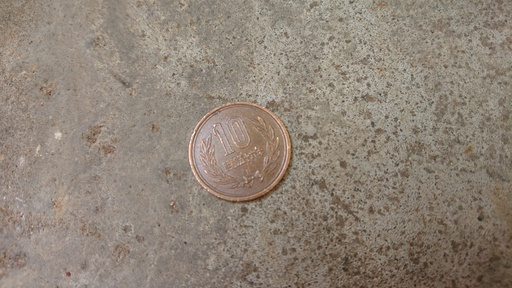10yen: (189, 103, 290, 201)
